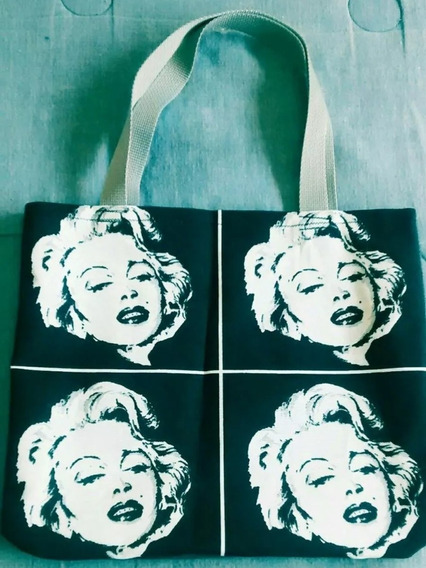cartera: (2, 9, 426, 560)
